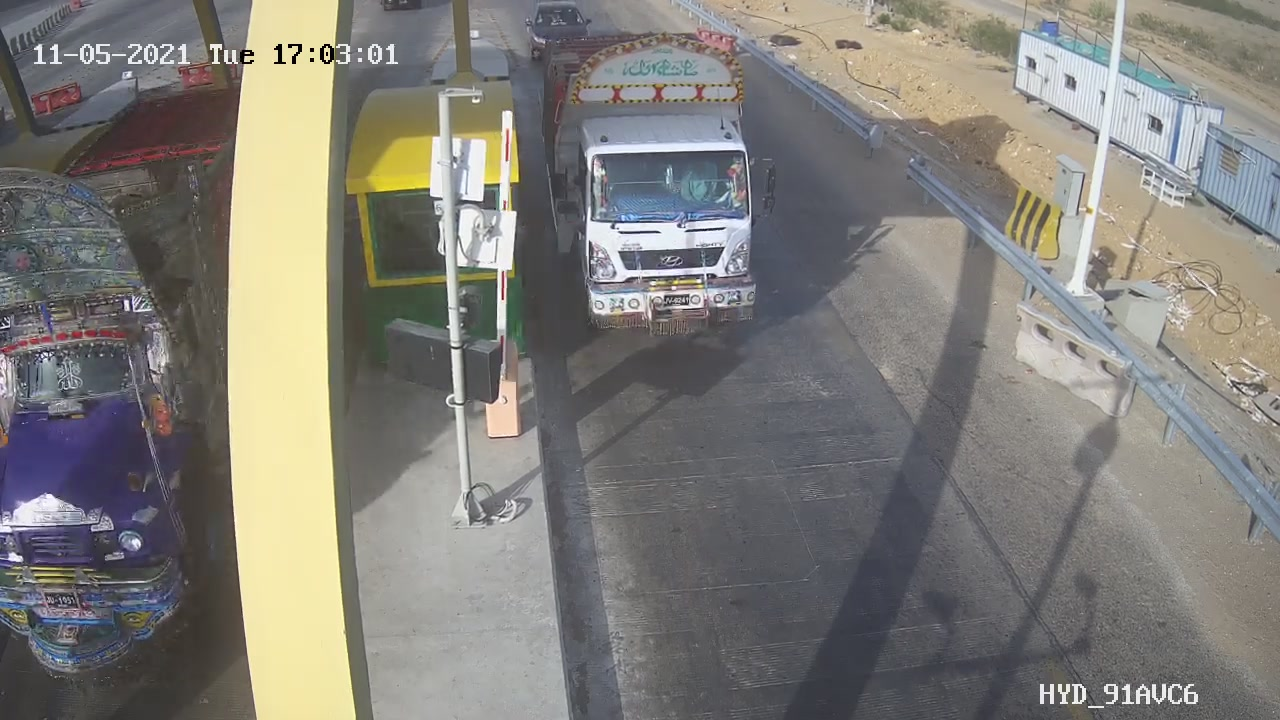F5: (529, 17, 794, 368)
